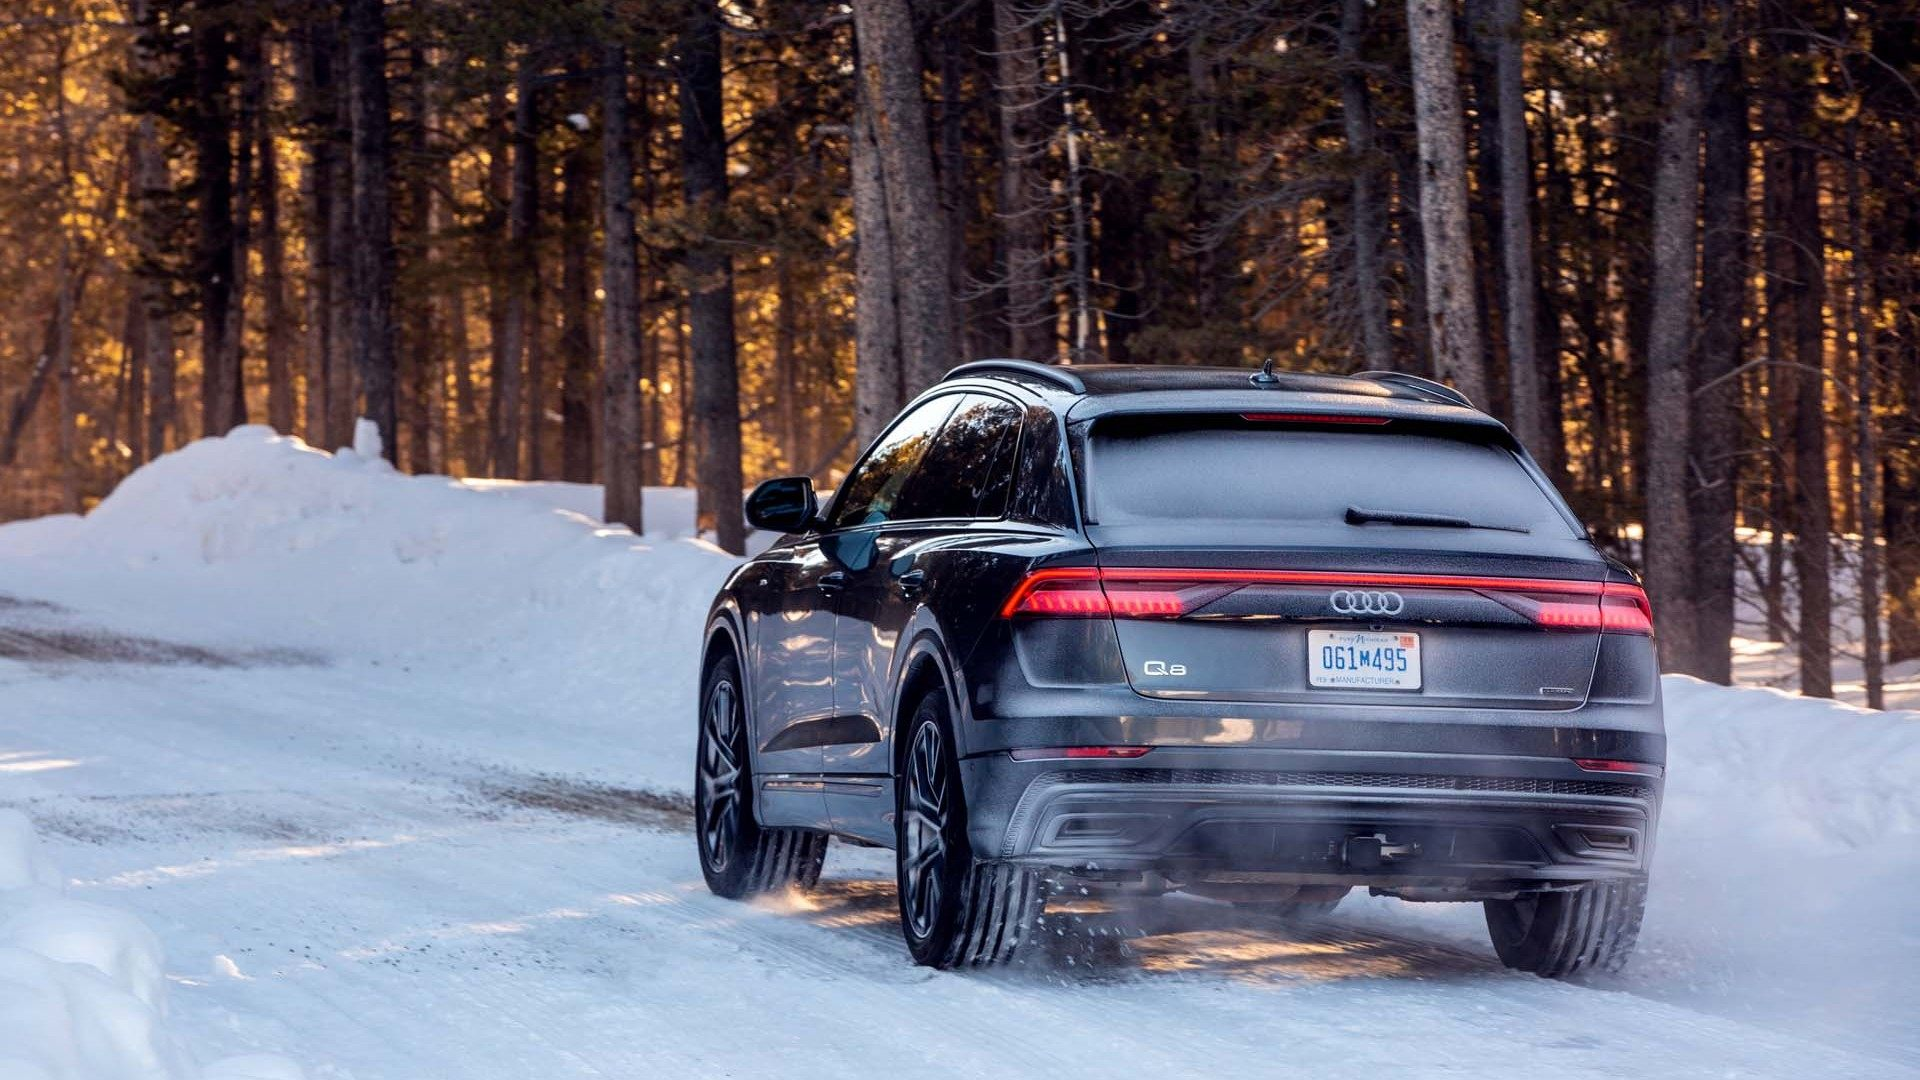car: (684, 352, 1676, 984)
